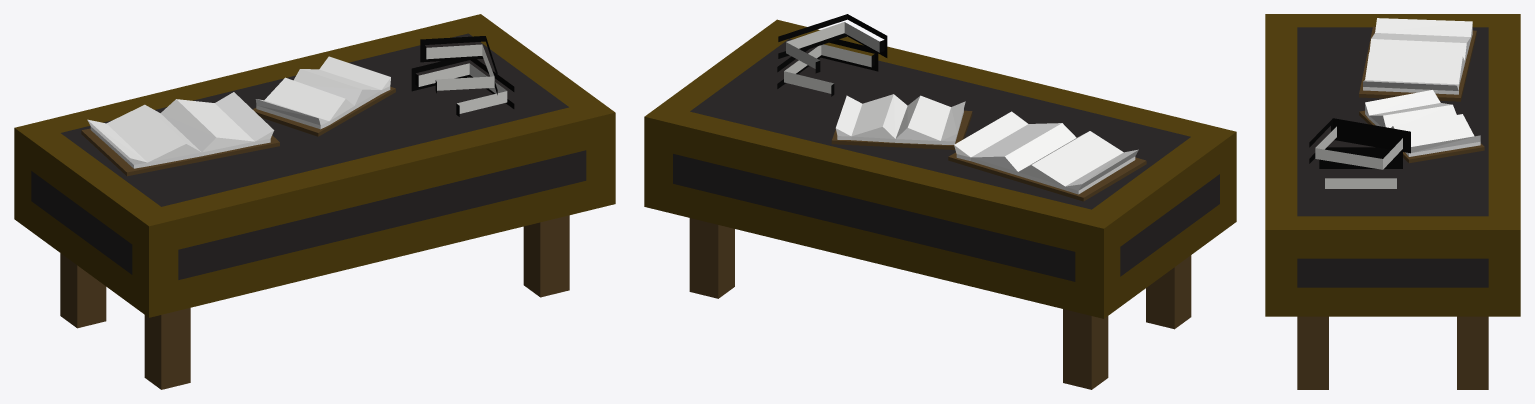
Rendered from obj_bank_table_2_0.obj.
3 views of the same model, side by side, from view 1: azimuth 30°, elevation 25°; view 2: azimuth 150°, elevation 25°; view 3: azimuth 270°, elevation 25° (orthographic). The views are drawn at different scales.
Bounding box in the file's own units: 2 × 0.9375 × 1.
